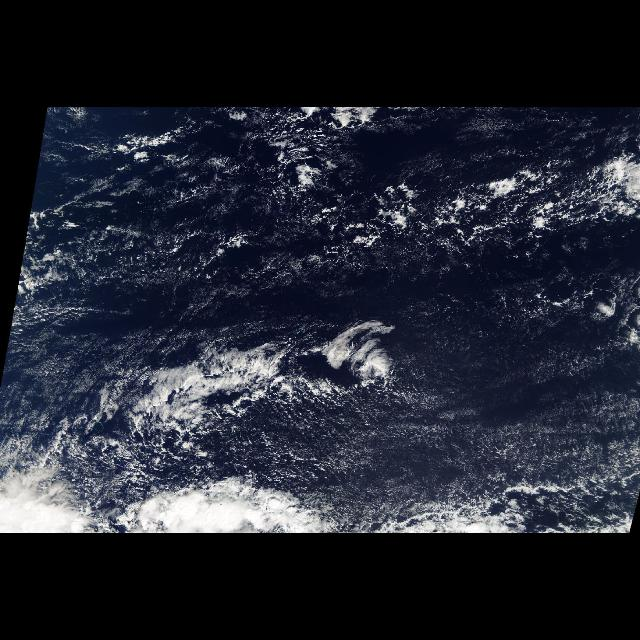Fish: (102, 316, 454, 422)
Gravel: (250, 128, 638, 264)
Sugar: (226, 376, 638, 526), (5, 324, 106, 422)
